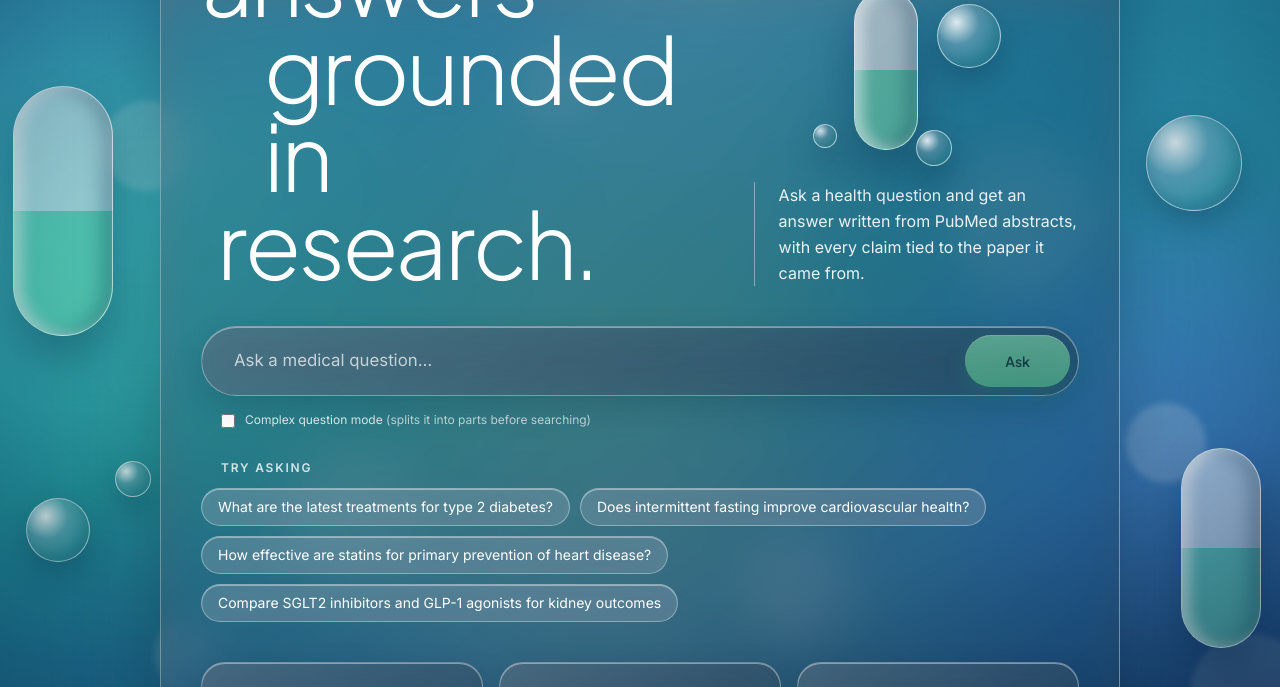
Test case: App › shows the server's error message when the request fails
(page scrolled)
Type "Anything" into the field labelled "medical question".
click(584, 361); type("Anything")  # box [210,335,957,387]
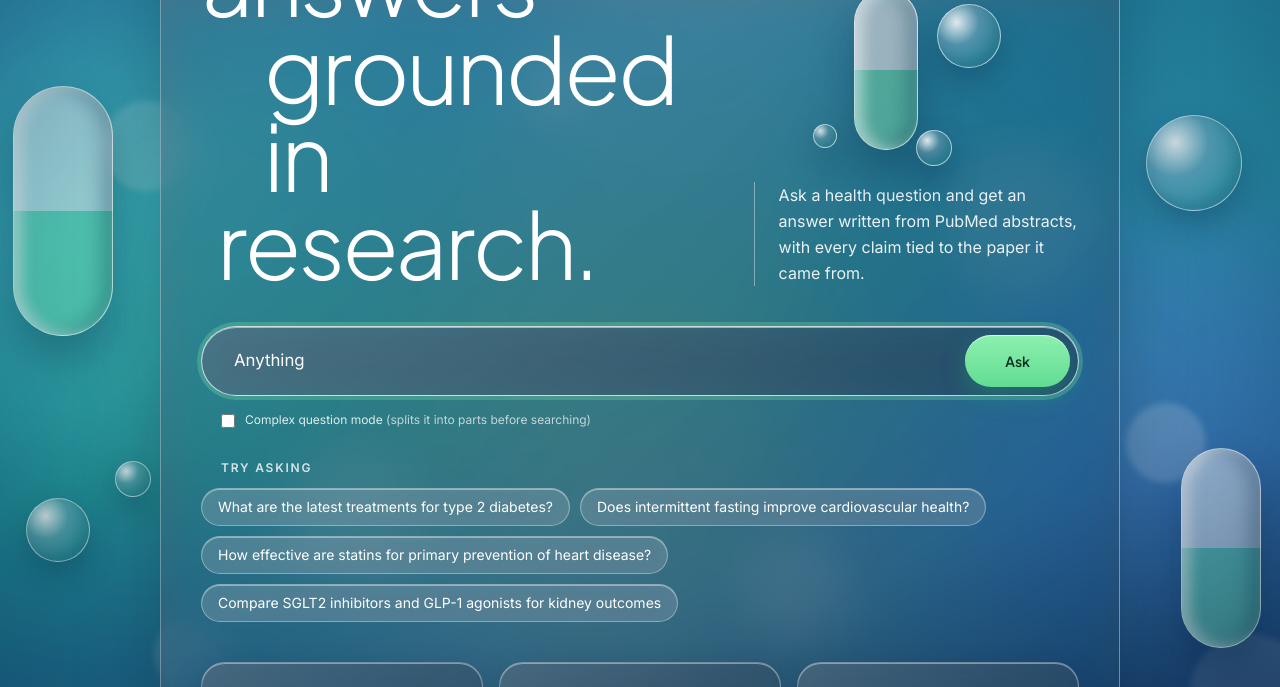
Click the button "Ask".
click(1018, 361)  # box [965,335,1070,387]
(page scrolled)
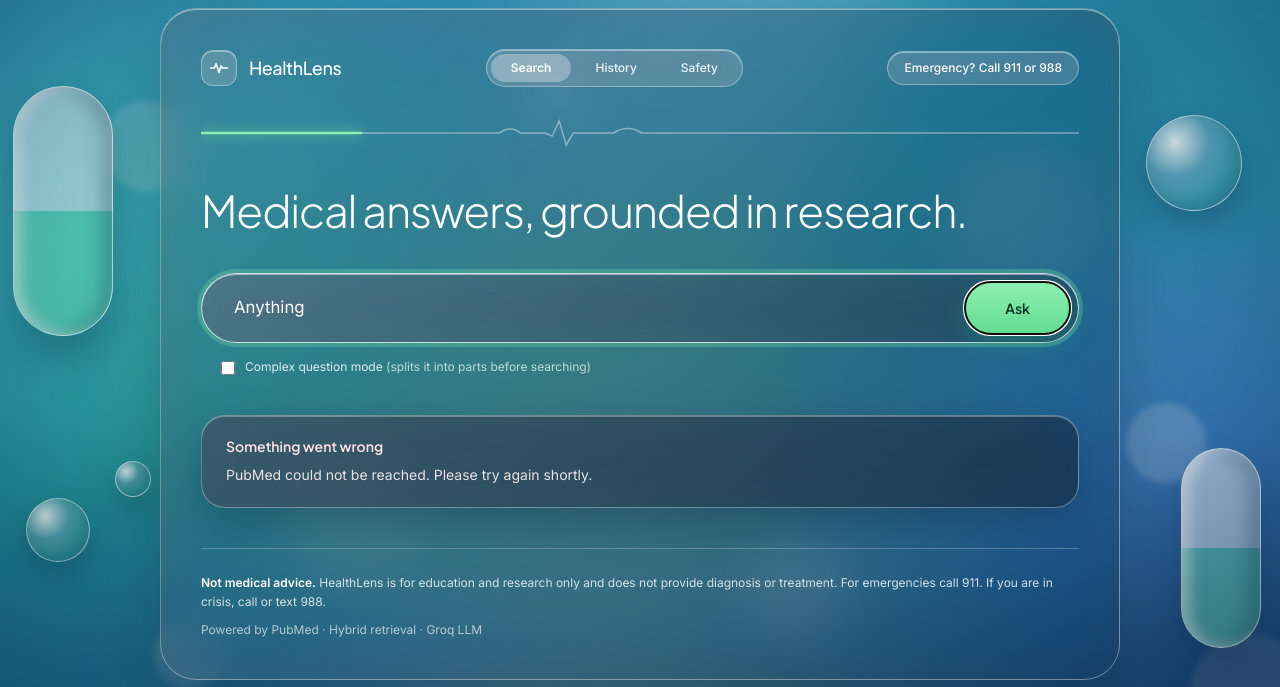
Check: the text "PubMed could not be reached. Please try again shortly." is shown, box [226,466,592,483]
